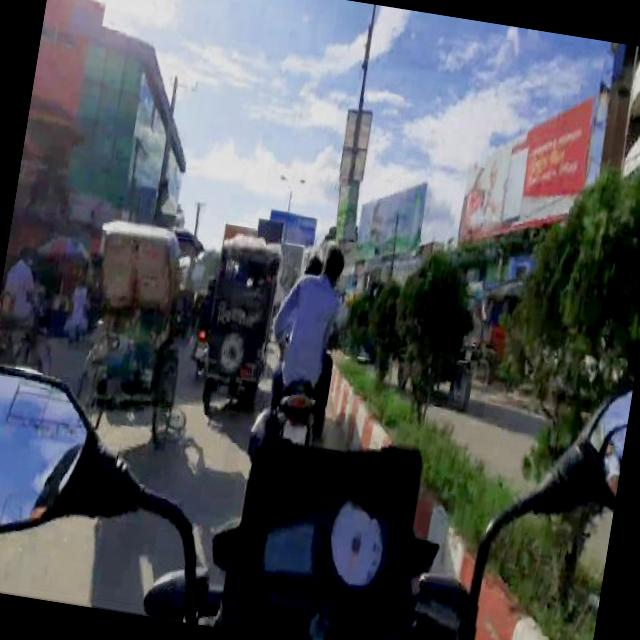motorcycle: (65, 218, 202, 448), (194, 234, 284, 420), (188, 276, 216, 379)
